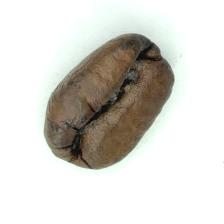NG: (106, 63, 145, 111)
